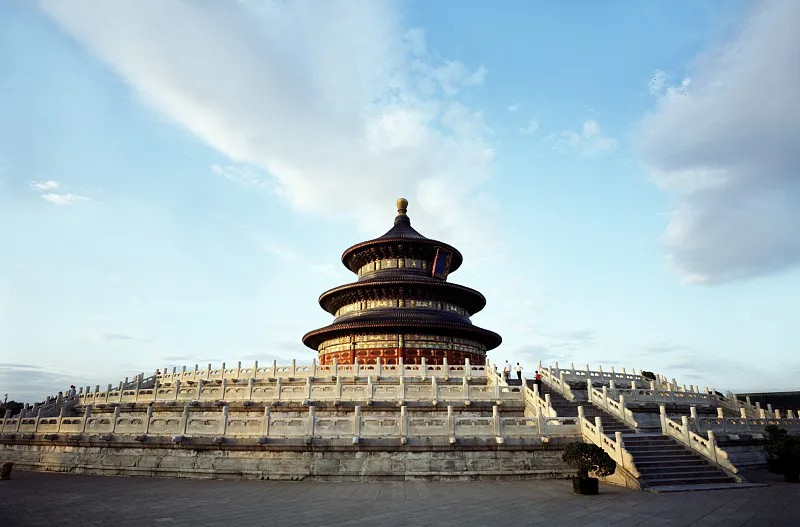Heaven: (301, 198, 502, 365)
